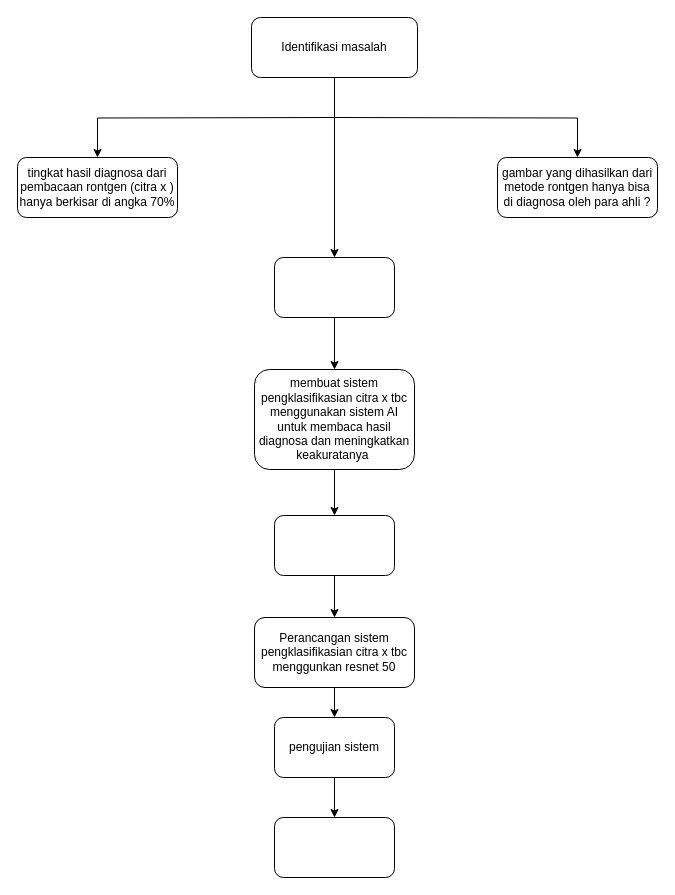
Image size: 675x895. Some labels were removed from this diagram. Each missing label, with the centre of its shape:
"Pemecahan Masalah" belongs at pixel 334 287.
"Perancangan dan Program" belongs at pixel 334 545.
"Produk Akhir" belongs at pixel 334 847.
